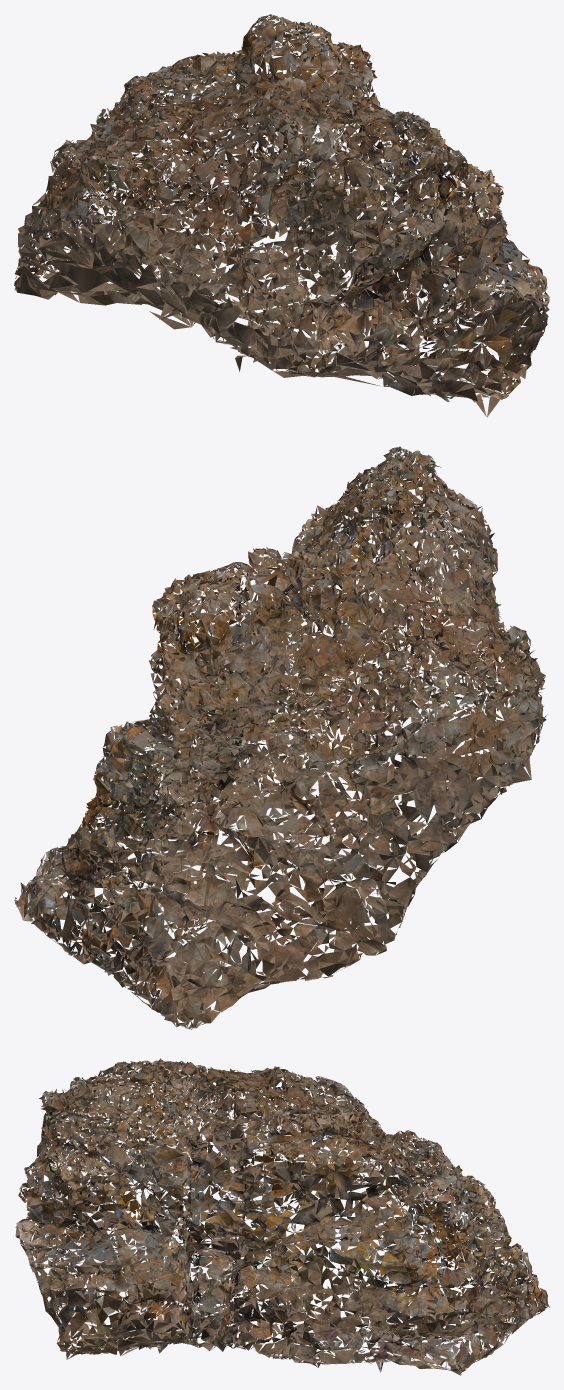
File: boulder_01.glb
3 renders of one model, top to bottom at view 1: azimuth 30°, elevation 25°; view 2: azimuth 150°, elevation 25°; view 3: azimuth 270°, elevation 25°, orthographic. The views are drawn at different scales.
Visible parts, largest first — view 1: boulder_01; view 2: boulder_01; view 3: boulder_01.
Boxes of the visible parts, left/top/right/bottom form: boulder_01: left=14, top=14, right=549, bottom=417; boulder_01: left=14, top=446, right=547, bottom=1029; boulder_01: left=15, top=1058, right=549, bottom=1375.
Bounding box in the file's own units: 1.29 × 1.01 × 1.84.
1 material, 1 textured.
